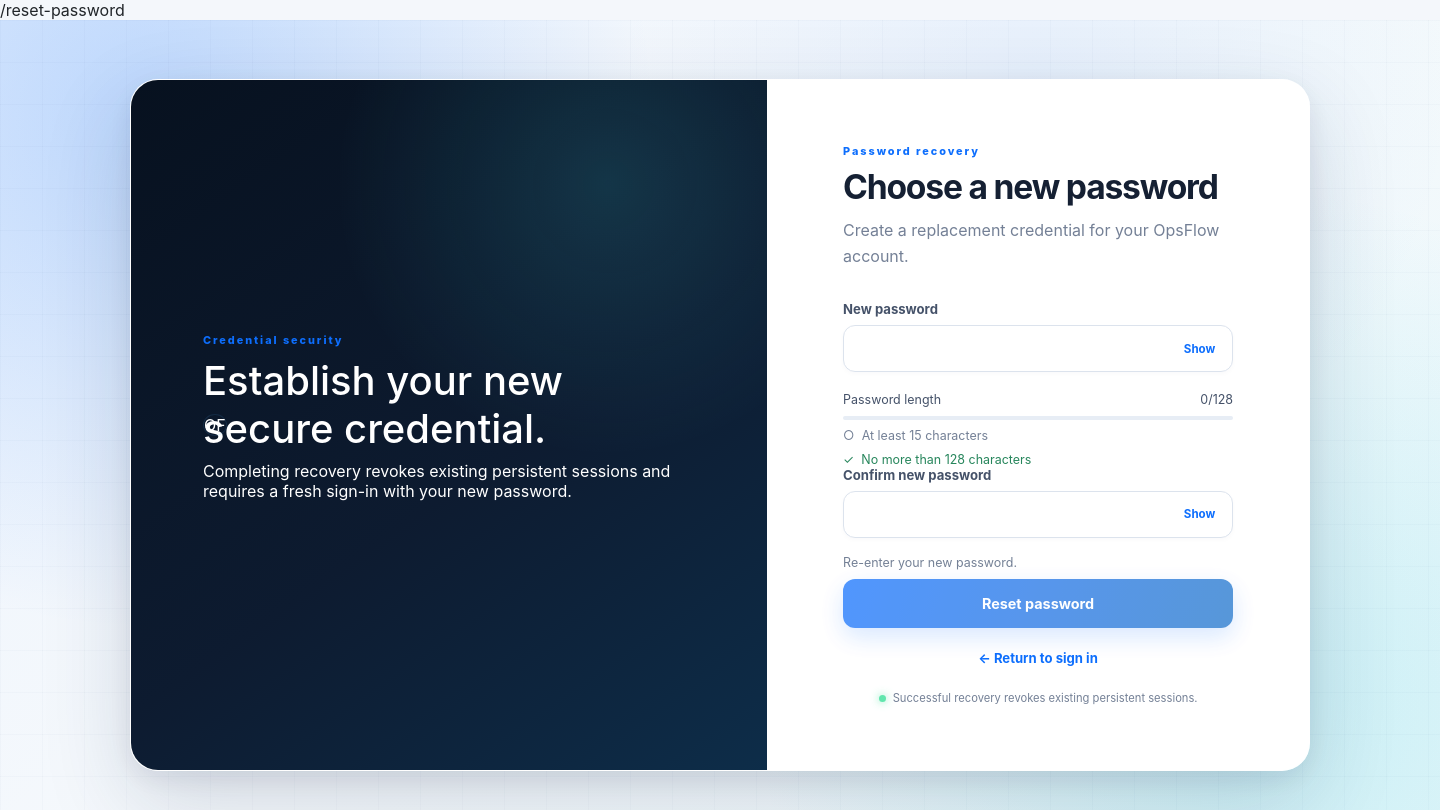
Test case: ResetPasswordPage password policy › defensively rejects a programmatic submission below the minimum length
This screenshot has width=1440, height=810.
Type "too-short" into the password field labelled "New password". click: point(1011, 349)
box: [844,326,1177,371]
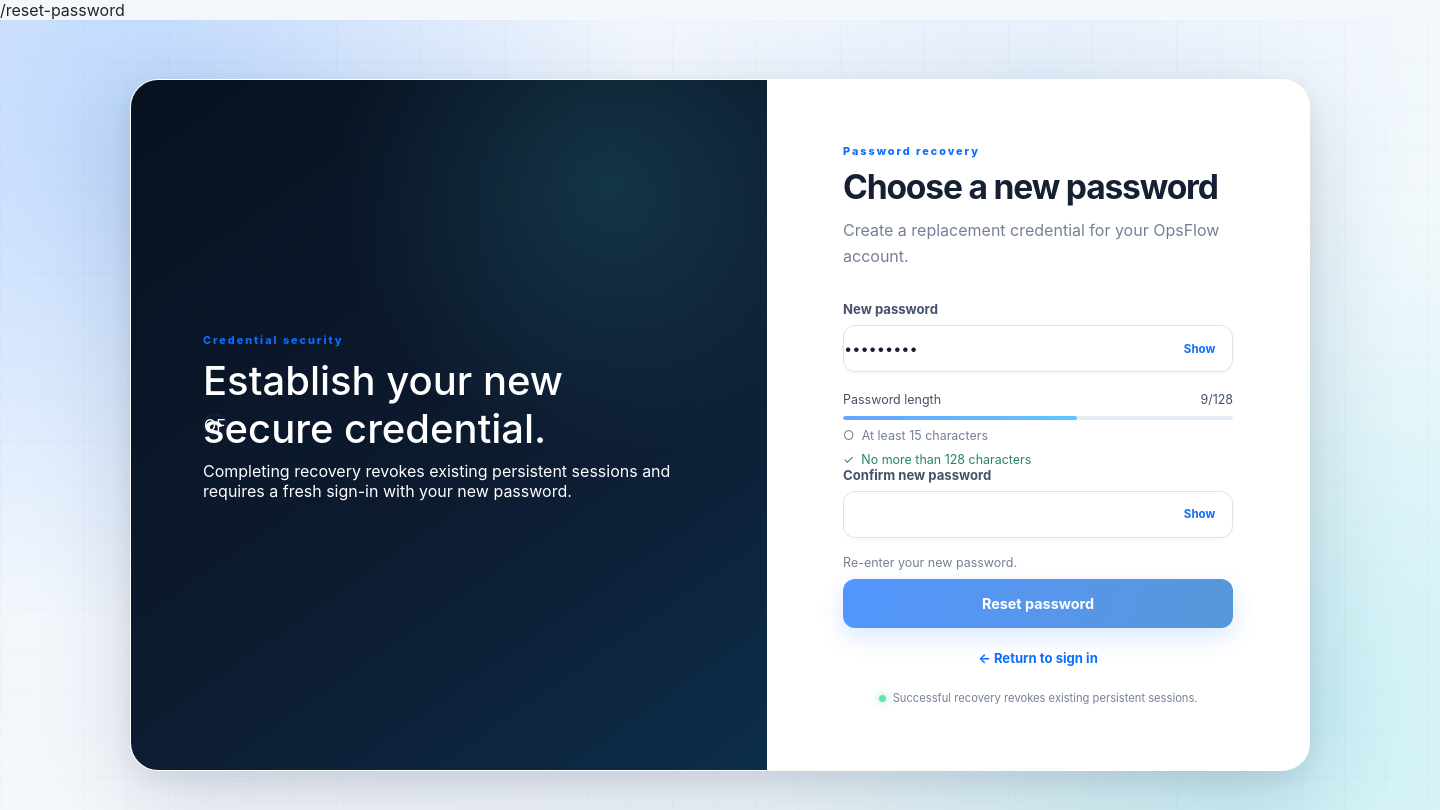
Type "too-short" into the password field labelled "Confirm new password". click: point(1011, 514)
box: [844,492,1177,537]
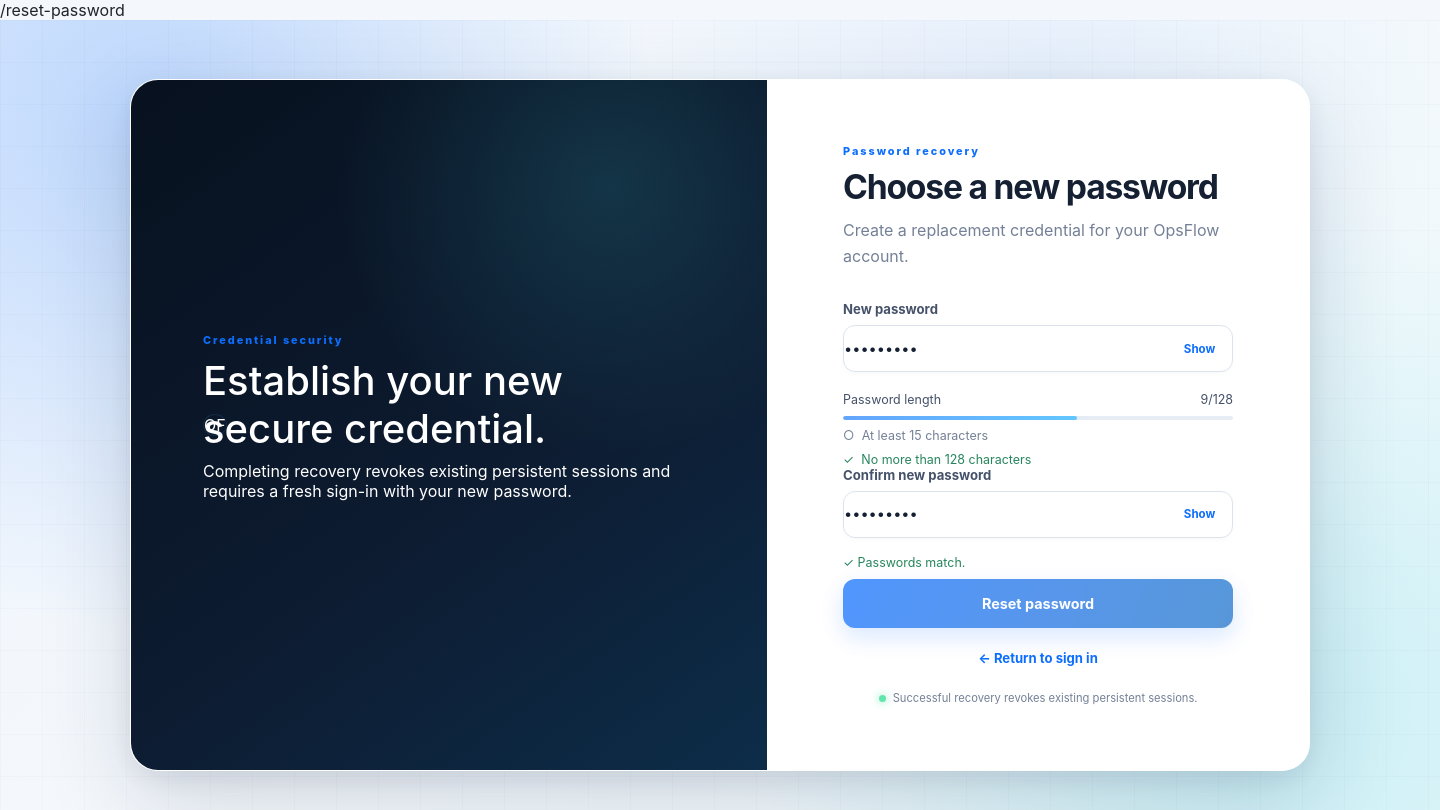
Submit the form named "Reset password", box [843,301,1233,628]
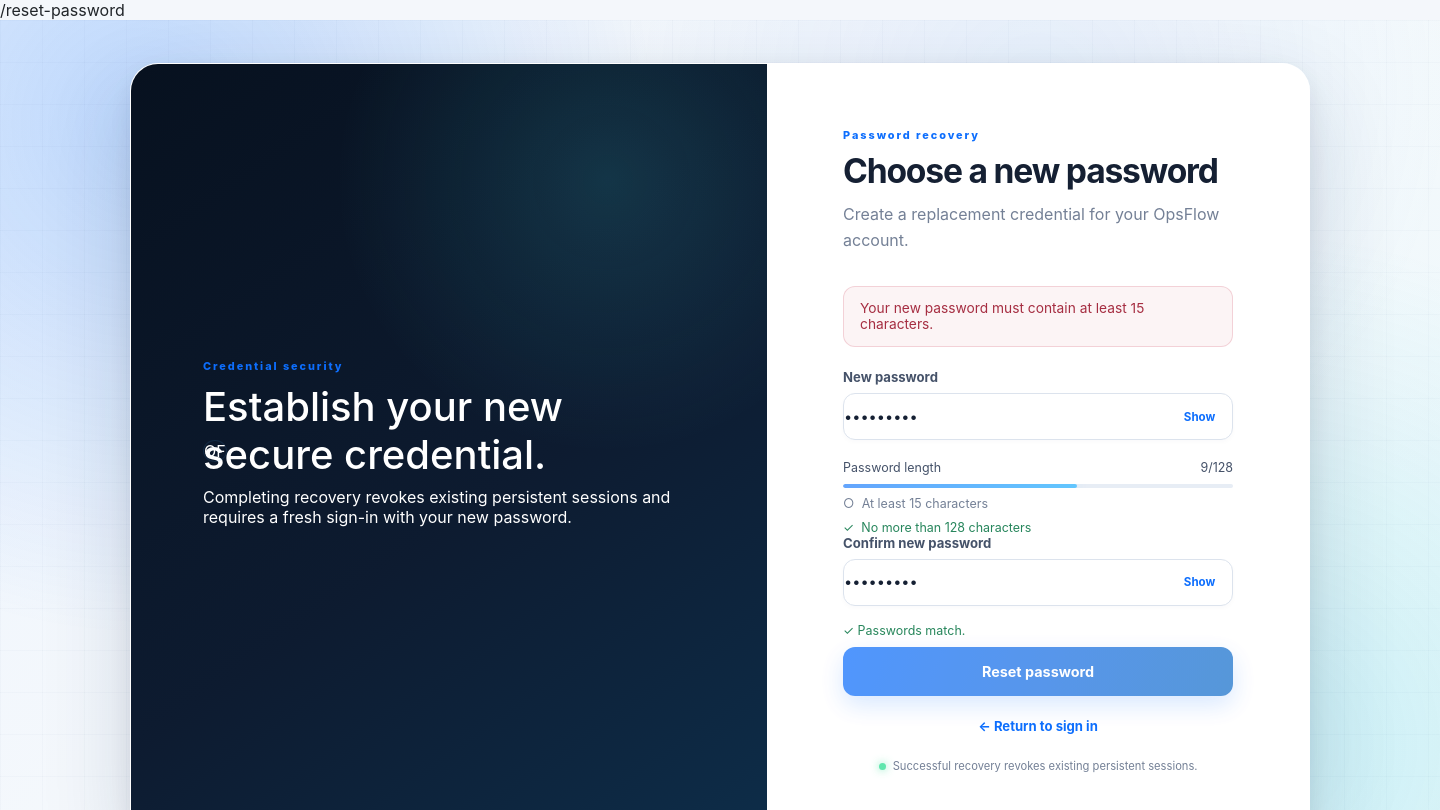
expect the message reads "Your new password must contain at least 15 characters.": met, box [860,300,1144,332]
